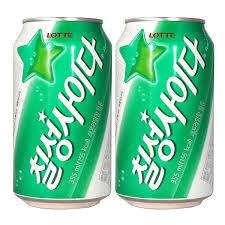chilsungcider: (113, 16, 218, 212), (10, 16, 114, 213)
